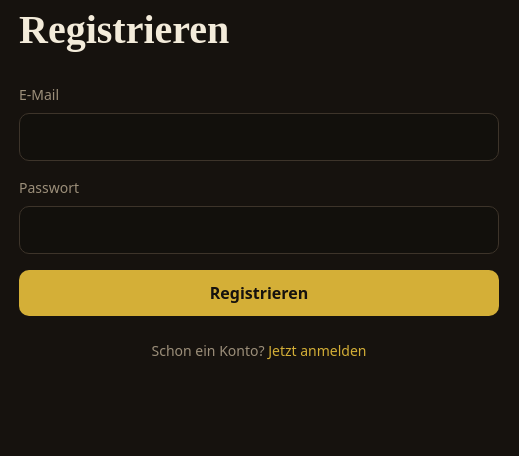
Scenario: RegisterPage › zeigt bei bereits vergebener E-Mail eine verständliche Meldung
Type "anna@example.com" into the field labelled "E-Mail" at (259, 137), box left=19, top=113, right=499, bottom=161
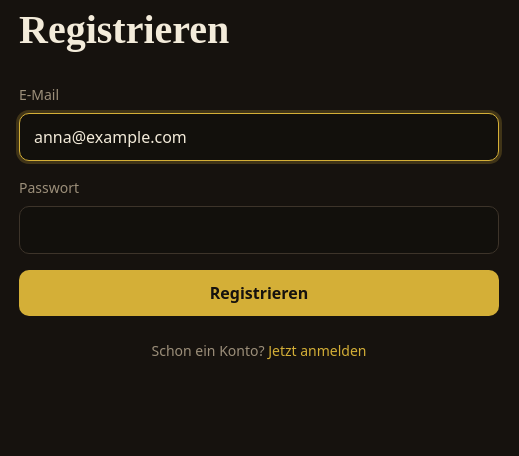
Type "geheim123" into the password field labelled "Passwort" at (259, 230), box left=19, top=206, right=499, bottom=254
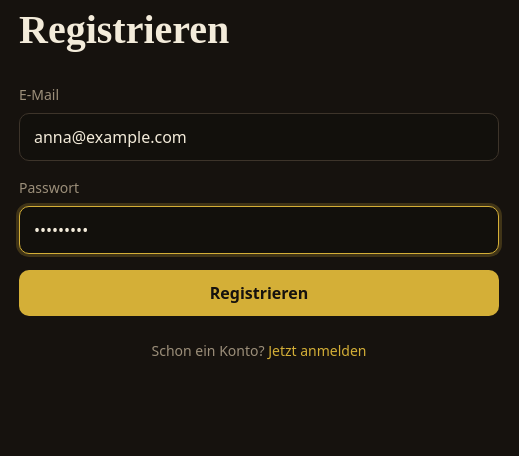
Click the button "Registrieren" at (259, 293), box left=19, top=270, right=499, bottom=316
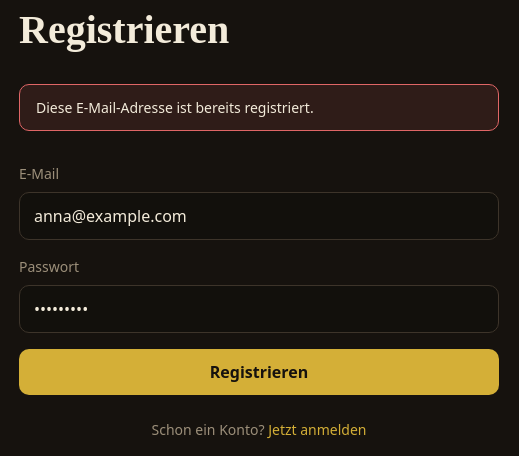
Expected: the message reads "Diese E-Mail-Adresse ist bereits registriert.", left=36, top=98, right=314, bottom=117
